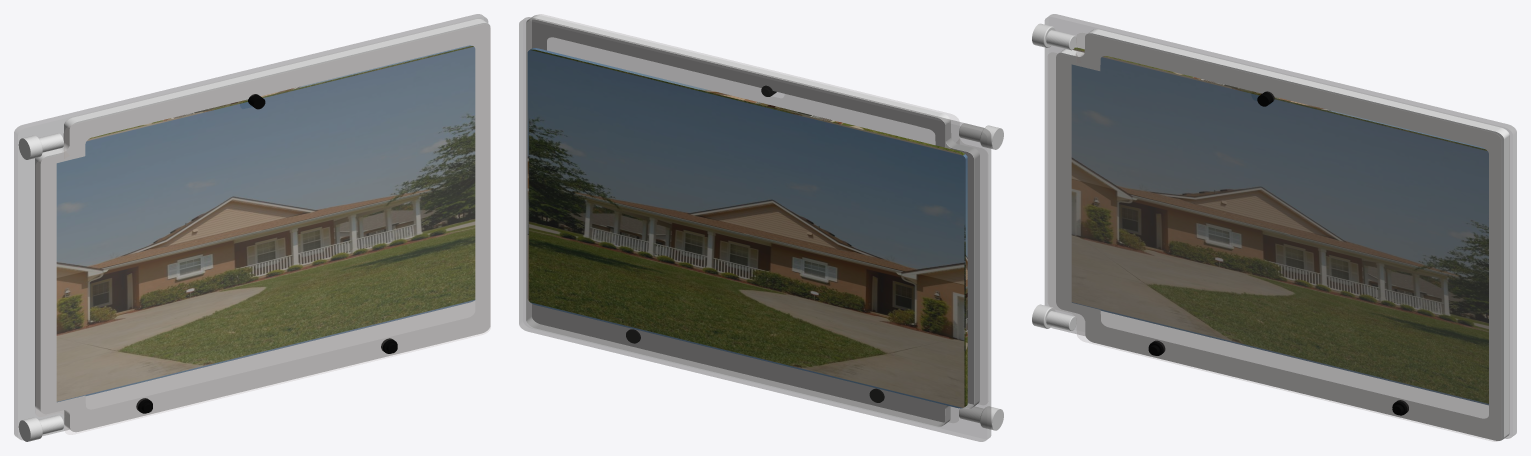
The model's file is a5landslf8.glb.
3 views of the same model, side by side, from view 1: azimuth 30°, elevation 25°; view 2: azimuth 150°, elevation 25°; view 3: azimuth 330°, elevation 25° (orthographic).
Visible parts, largest first — view 1: a4horzoneinittwo.001; view 2: a4horzoneinittwo.001; view 3: a4horzoneinittwo.001.
Boxes of the visible parts, x1=… form: a4horzoneinittwo.001: x1=14, y1=14, x2=490, y2=441; a4horzoneinittwo.001: x1=519, y1=14, x2=1003, y2=441; a4horzoneinittwo.001: x1=1032, y1=14, x2=1516, y2=441.
Size of the model in its own units: 0.3477 by 0.2208 by 0.0214.
6 materials, 1 textured.
